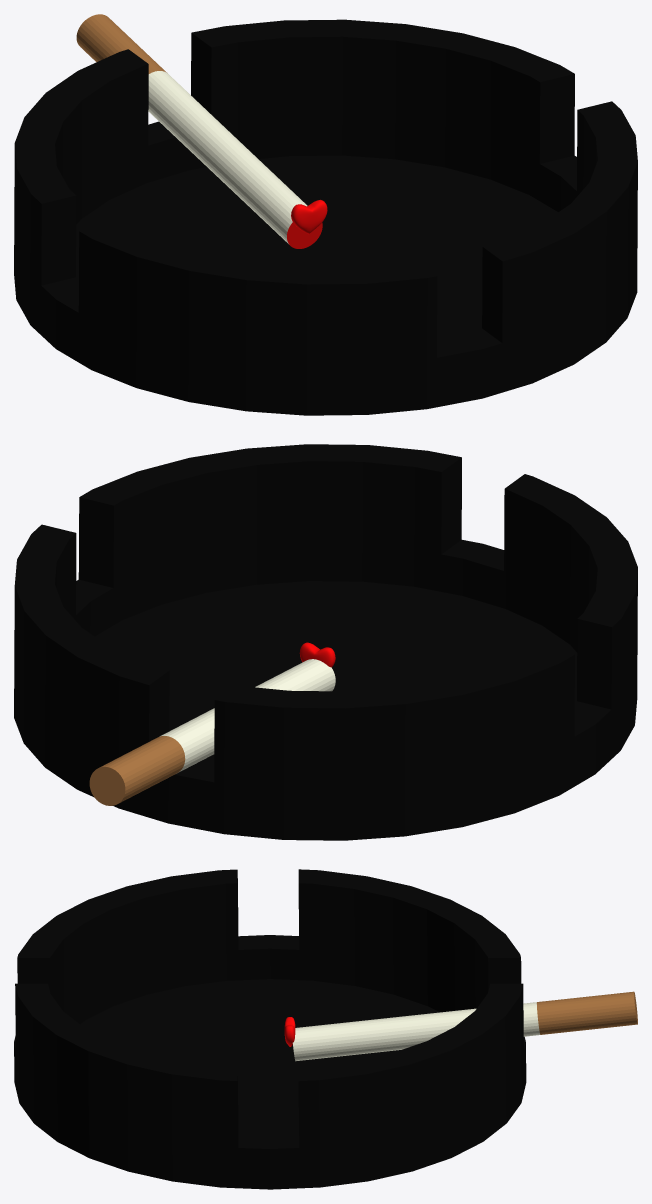
The model's file is fixedcig+animation.glb.
3 views of the same model, one above another, from view 1: azimuth 30°, elevation 25°; view 2: azimuth 150°, elevation 25°; view 3: azimuth 270°, elevation 25° (orthographic). The views are drawn at different scales.
Parts seen in each view (by area): view 1: Cylinder; view 2: Cylinder; view 3: Cylinder.
Boxes of the visible parts, bbox=[...] form: Cylinder: bbox=[14, 14, 637, 415]; Cylinder: bbox=[14, 444, 637, 840]; Cylinder: bbox=[14, 869, 637, 1189].
Bounding box in the file's own units: 0.3914 × 0.0916 × 0.4819.
